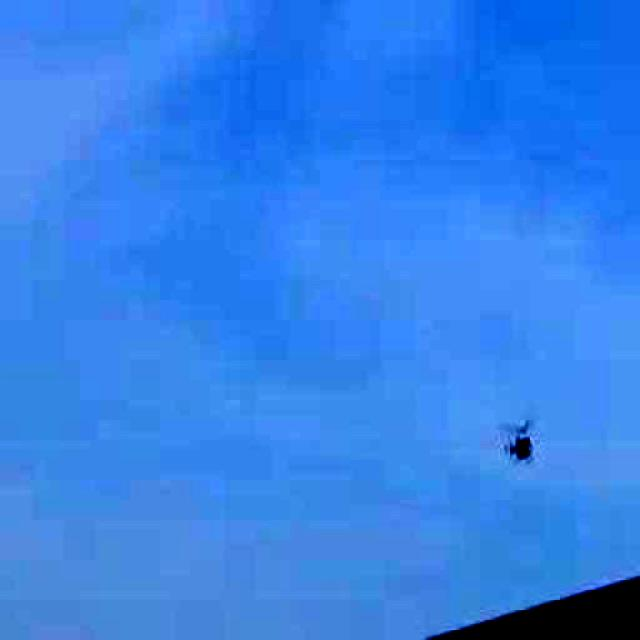drone: (494, 401, 556, 482)
